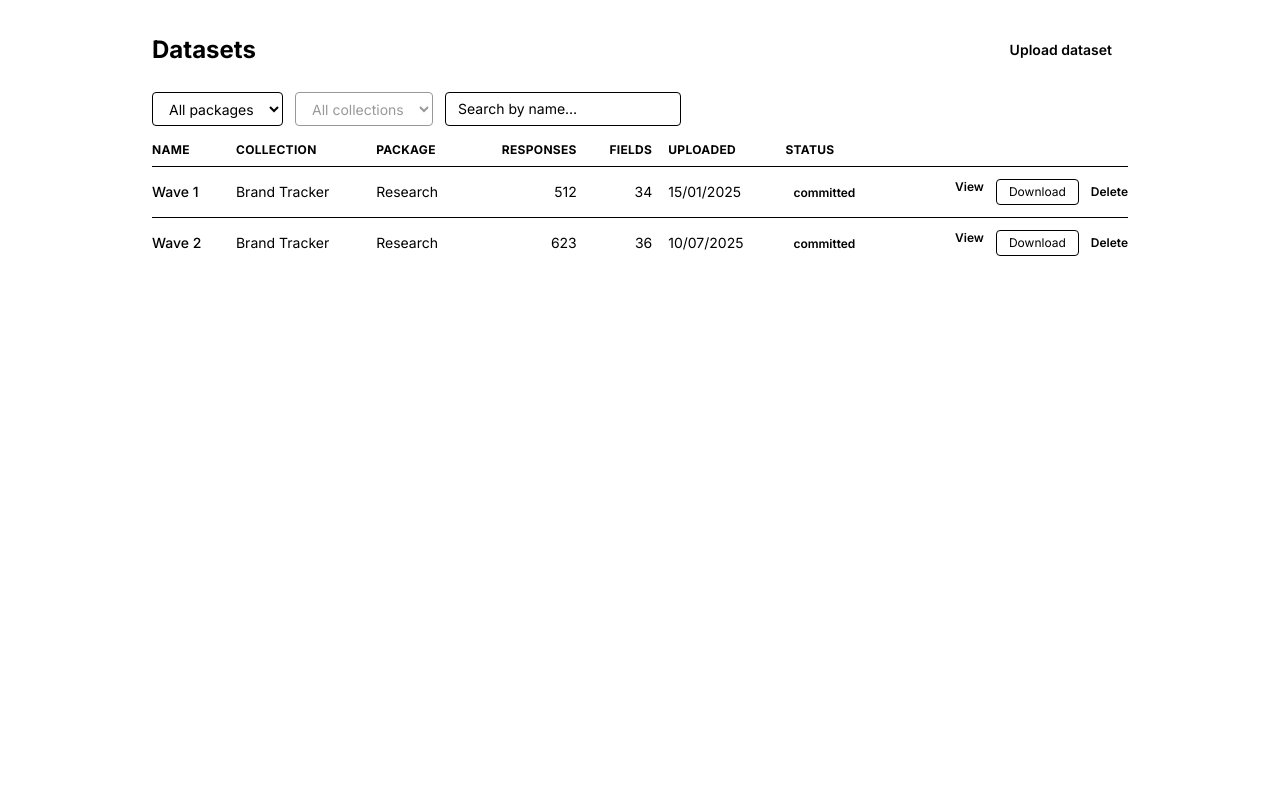
it: shows delete confirmation dialog and removes dataset on confirm
The image size is (1280, 800).
Click the button "Delete" in the row of "Wave 1" at (1109, 192), box [1091,179,1128,205]
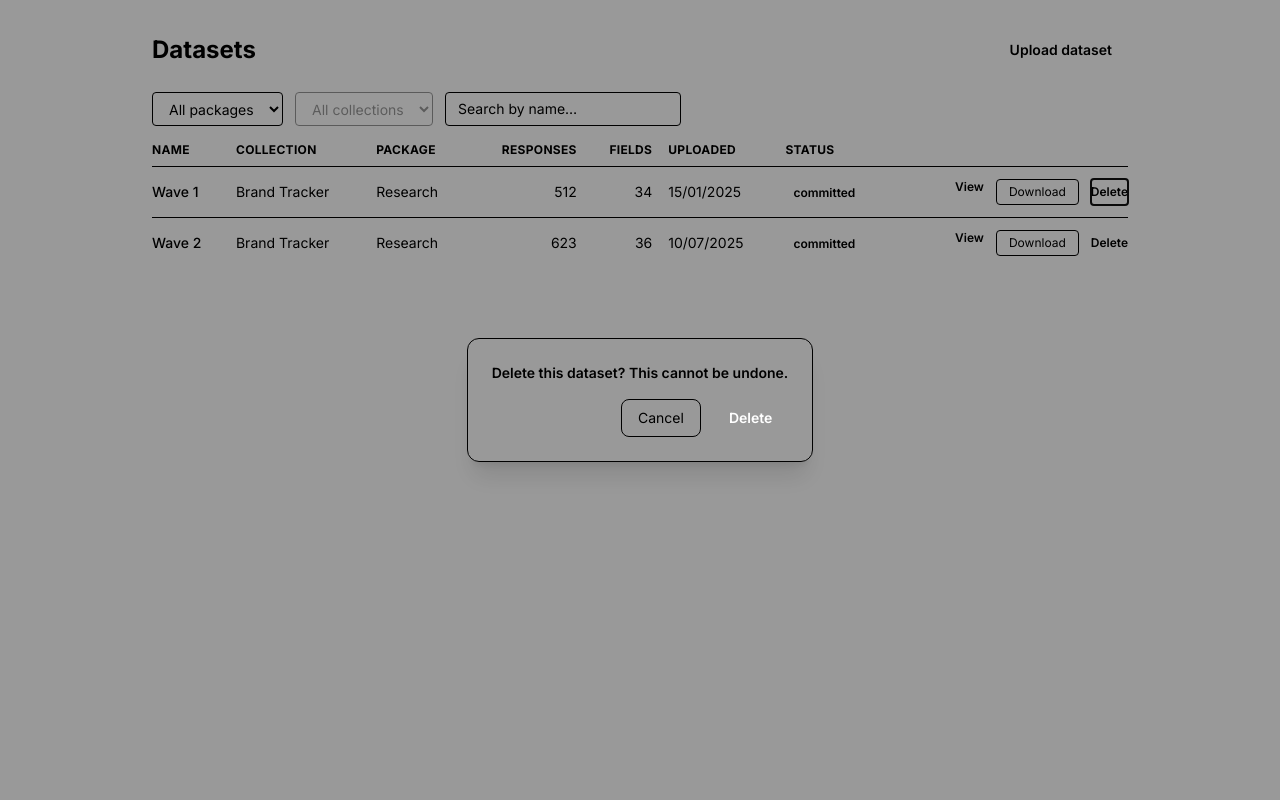
Now the text "Delete this dataset? This cannot be undone." is shown, box [492,363,788,383]
Click the button "Delete" at (751, 418), box [713,399,788,437]
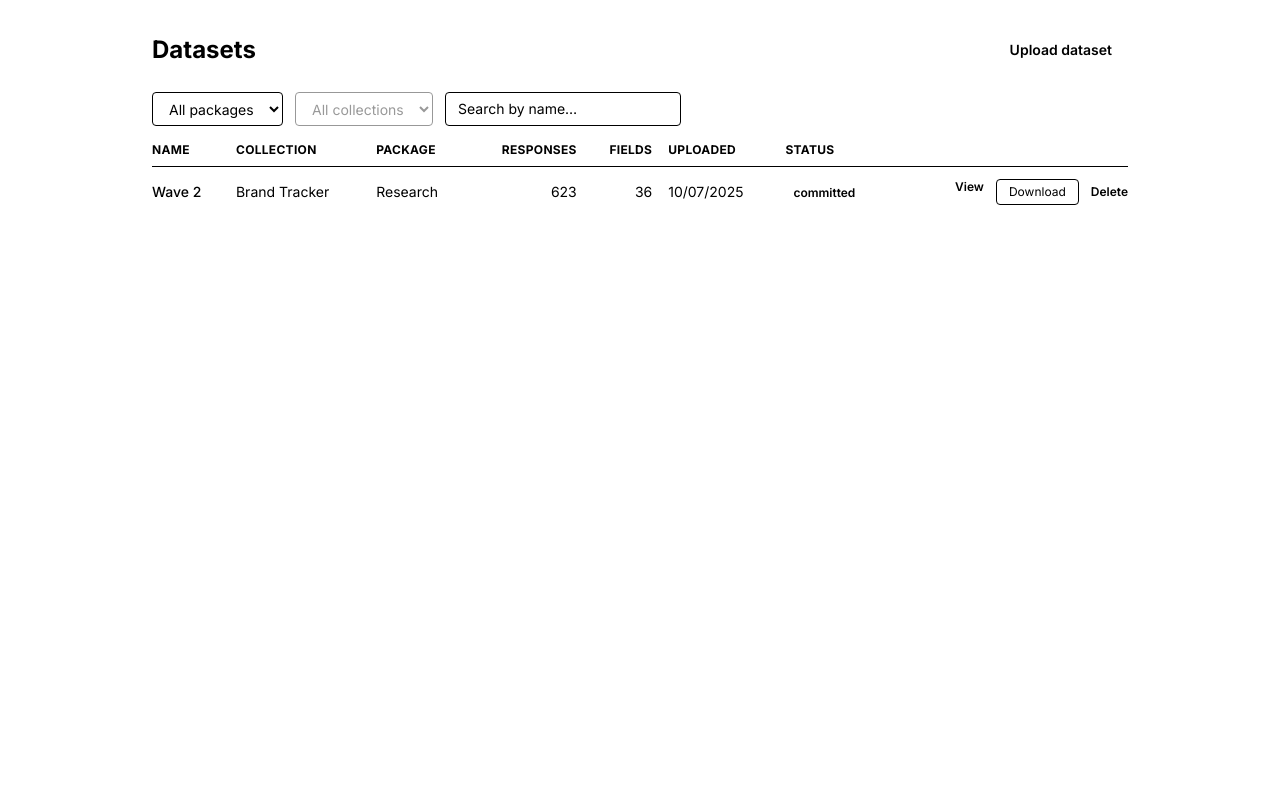
Expected: the text "Wave 2" is shown, [152,166,236,217]
Now the text "Wave 1" is gone
